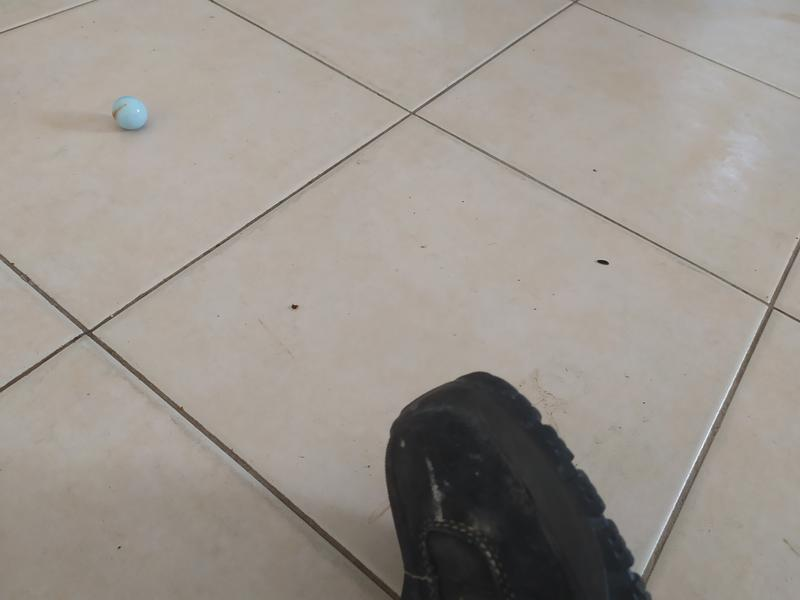Warning: (110, 94, 151, 133)
